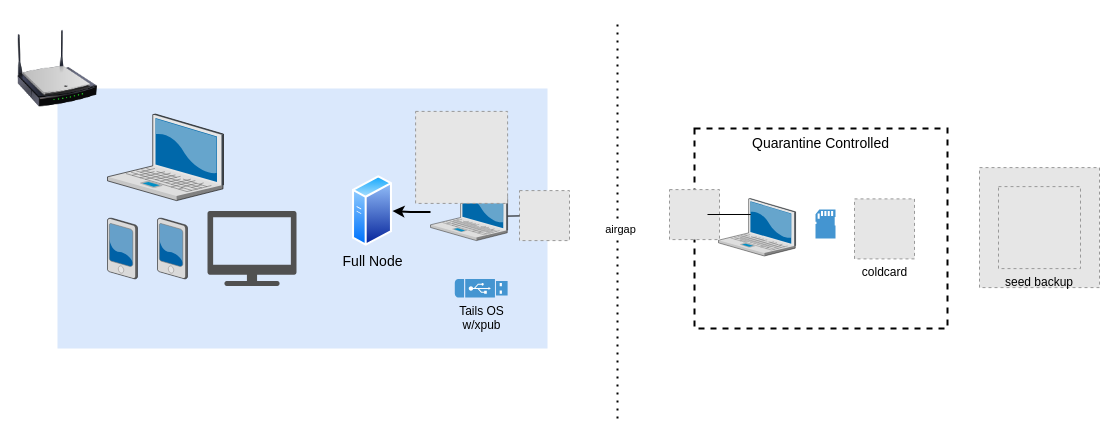
The diagram is 1117 pixels wide and 437 high, and some of its shapes have lost their labels. Grey dashed boxes stand in for pictures. The centre of each missing label's shape, as x and y in pixels:
airgapped: point 756,227
txn-manager: point 468,211
